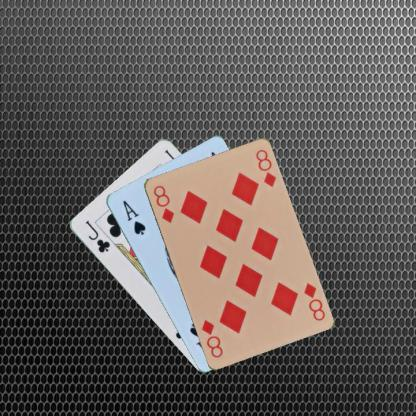8d: (300, 280, 326, 322), (149, 183, 175, 224)
As: (119, 197, 146, 236)
Jc: (83, 218, 111, 254)
